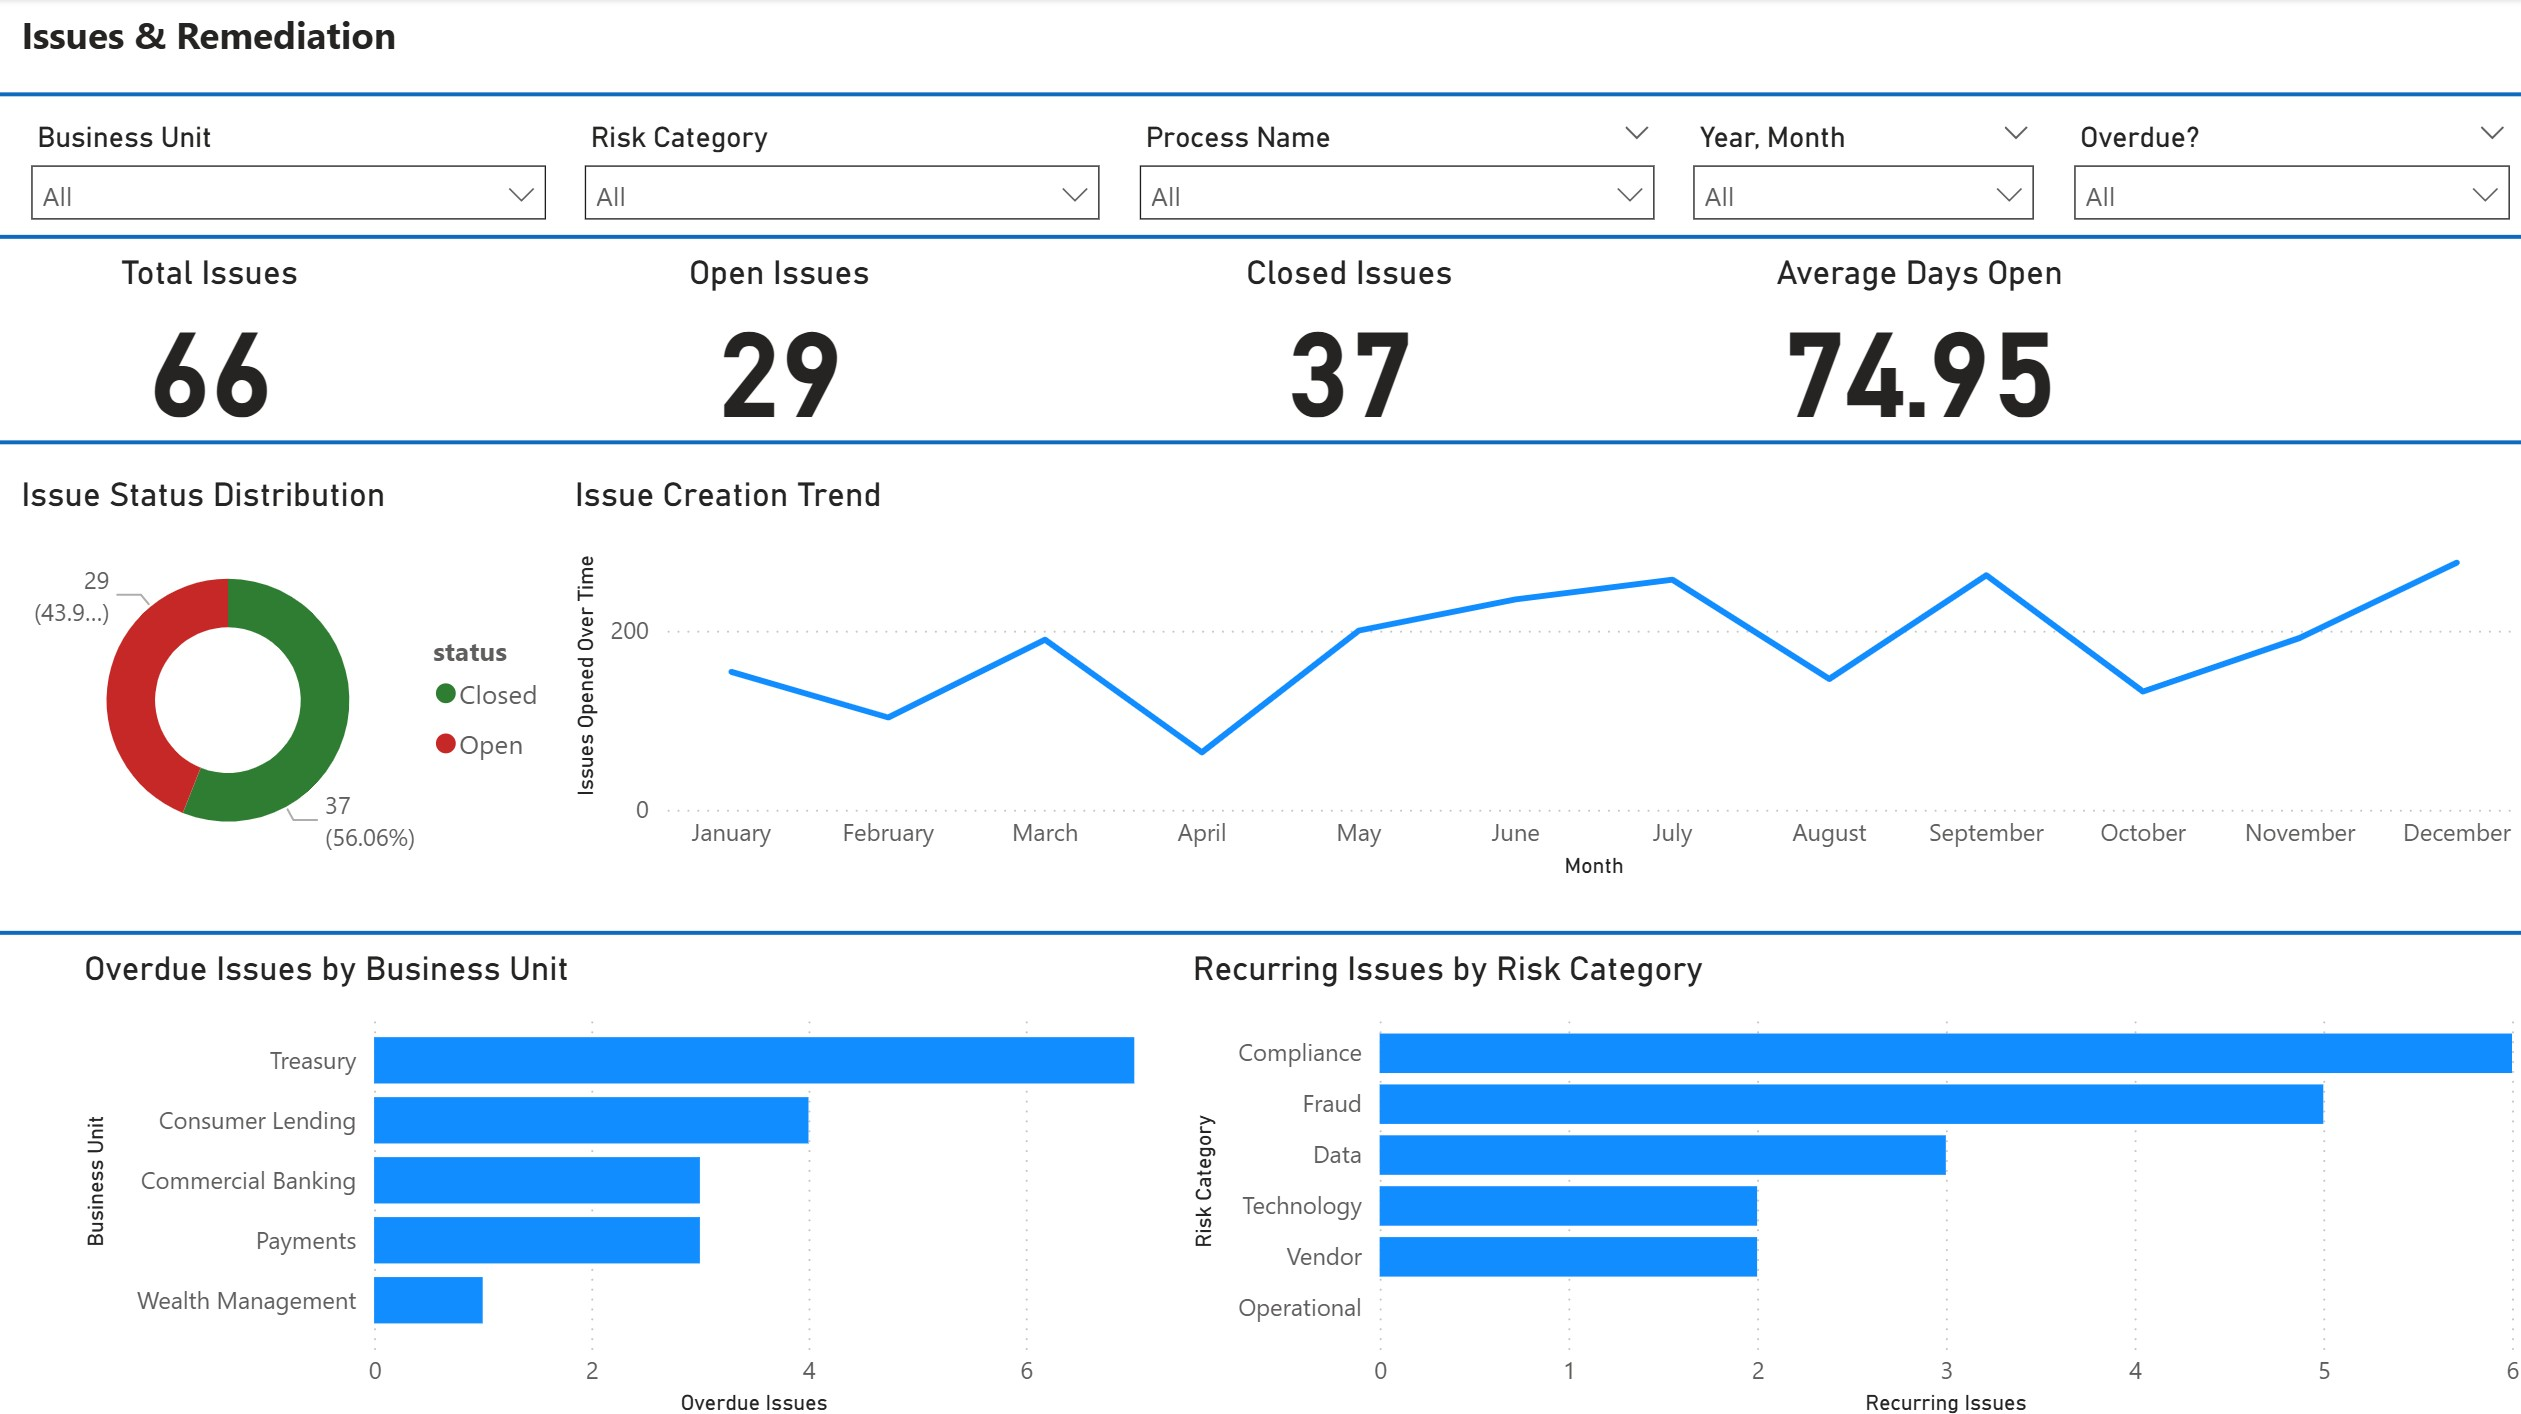

The dashboard page shown, as its layout file describes it:
{"tool":"powerbi","page":{"name":"Issues & Remediation","canvas":[1280,720],"ordinal":3},"visuals":[{"type":"slicer","fields":{"Values":["dim_business_unit.business_unit_name"]},"box":[8,56,280,64],"z":0},{"type":"slicer","fields":{"Values":["dim_risk.risk_category"]},"box":[288,56,280,64],"z":1000},{"type":"slicer","fields":{"Values":["dim_process.process_name"]},"box":[568,56,280,64],"z":2000},{"type":"donutChart","title":"Issue Status Distribution","fields":{"Y":["CountNonNull(fact_issue.issue_id)"],"Category":["fact_issue.status"]},"box":[8,240,280,208],"z":3000},{"type":"lineChart","title":"Issue Creation Trend","fields":{"Category":["fact_issue.opened_date.Variation.Date Hierarchy.Month"],"Y":["Sum(fact_issue.issue_id)"]},"box":[288,240,992,208],"z":4000},{"type":"clusteredBarChart","fields":{"Category":["dim_business_unit.business_unit_name"],"Y":["Sum(fact_issue.overdue_flag)"]},"box":[40,480,544,240],"z":5000},{"type":"clusteredBarChart","title":"Recurring Issues by Risk Category","fields":{"Y":["Sum(fact_issue.overdue_flag)"],"Category":["dim_risk.risk_category"]},"box":[600,480,680,240],"z":6000},{"type":"slicer","fields":{"Values":["fact_issue.opened_date.Variation.Date Hierarchy.Year","fact_issue.opened_date.Variation.Date Hierarchy.Month"]},"box":[848,56,192,64],"z":7000},{"type":"textbox","box":[8,0,200,40],"z":8000},{"type":"shape","box":[0,40,1280,16],"z":9000},{"type":"shape","box":[0,112,1280,16],"z":10000},{"type":"shape","box":[0,464,1280,16],"z":11000},{"type":"card","title":"Total Issues","fields":{"Values":["Count(fact_issue.issue_id)"]},"box":[8,128,200,88],"z":12000},{"type":"card","title":"Open Issues","fields":{"Values":["Measure.Open Issues"]},"box":[296,128,200,88],"z":13000},{"type":"card","title":"Closed Issues","fields":{"Values":["Measure.Closed Issues"]},"box":[584,128,200,88],"z":14000},{"type":"card","title":"Average Days Open","fields":{"Values":["Avg(fact_issue.days_open)"]},"box":[872,128,200,88],"z":15000},{"type":"shape","box":[0,216,1280,16],"z":16000},{"type":"slicer","fields":{"Values":["fact_issue.overdue_flag"]},"box":[1040,56,240,56],"z":17000}]}

Visuals, with their boxes in screenshot pixels (x1, y1, x2, y2), scaled from the page's 1280x720 canvas onto the 2521x1414 screenshot:
slicer - dim_business_unit.business_unit_name: detection(16, 110, 567, 236)
slicer - dim_risk.risk_category: detection(567, 110, 1119, 236)
slicer - dim_process.process_name: detection(1119, 110, 1670, 236)
"Issue Status Distribution" donutChart: detection(16, 471, 567, 880)
"Issue Creation Trend" lineChart: detection(567, 471, 2520, 880)
clusteredBarChart - dim_business_unit.business_unit_name x Sum(fact_issue.overdue_flag): detection(79, 943, 1150, 1413)
"Recurring Issues by Risk Category" clusteredBarChart: detection(1182, 943, 2520, 1413)
slicer - fact_issue.opened_date.Variation.Date Hierarchy.Year x fact_issue.opened_date.Variation.Date Hierarchy.Month: detection(1670, 110, 2048, 236)
textbox: detection(16, 0, 410, 79)
shape: detection(0, 79, 2520, 110)
shape: detection(0, 220, 2520, 251)
shape: detection(0, 911, 2520, 943)
"Total Issues" card: detection(16, 251, 410, 424)
"Open Issues" card: detection(583, 251, 977, 424)
"Closed Issues" card: detection(1150, 251, 1544, 424)
"Average Days Open" card: detection(1717, 251, 2111, 424)
shape: detection(0, 424, 2520, 456)
slicer - fact_issue.overdue_flag: detection(2048, 110, 2520, 220)
